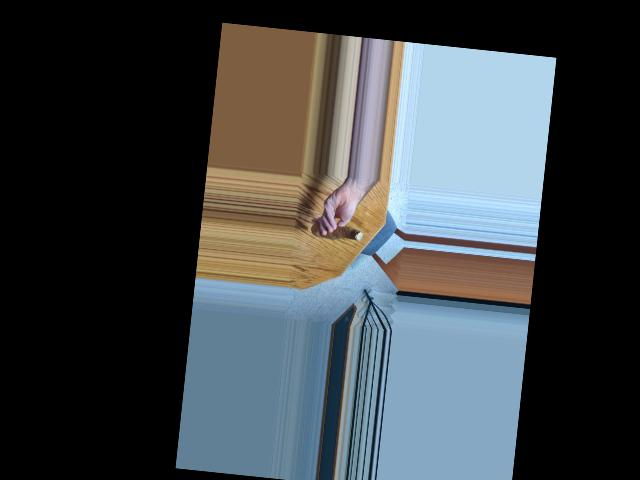sweet_potato: (313, 219, 360, 246)
